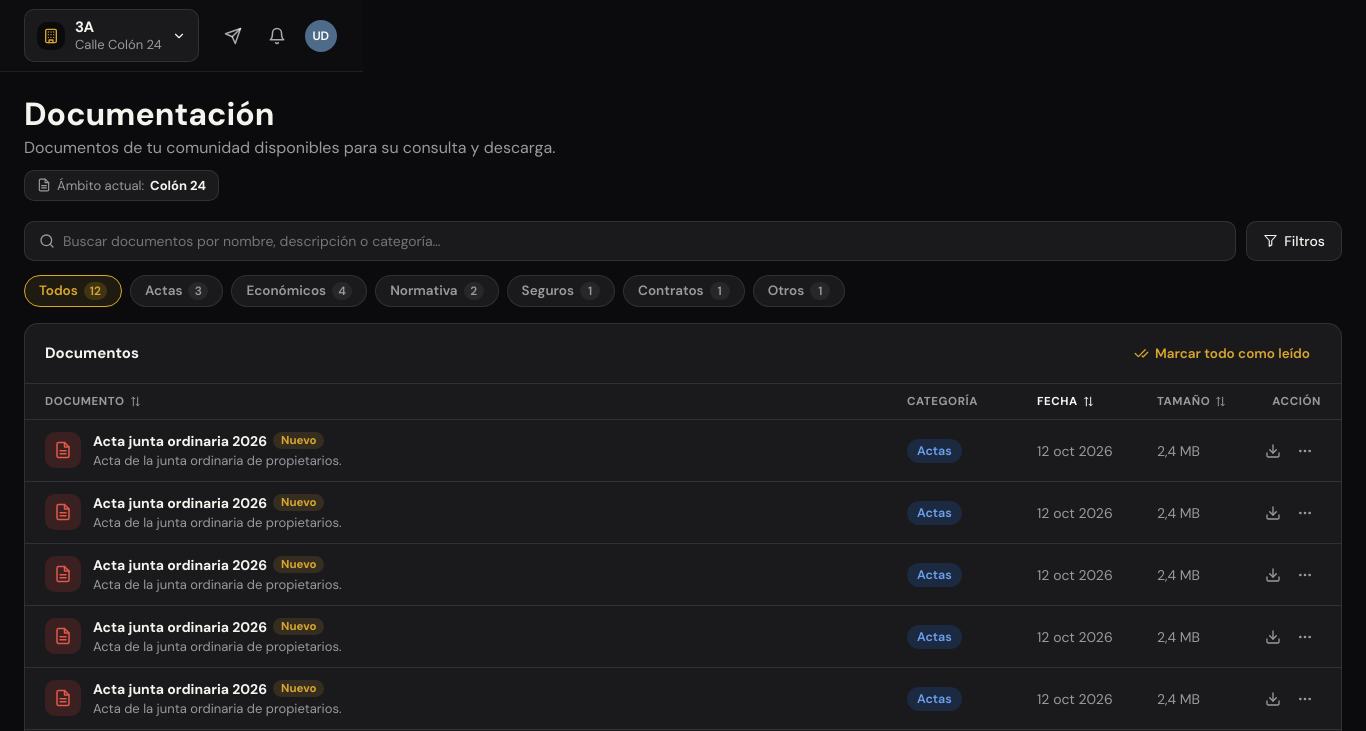
it: DocumentacionCComponent › «Marcar todo como leído» restores the pills it could not mark and says so
Click the button "Marcar todo como leído" at (1222, 353), box [1123, 338, 1321, 369]
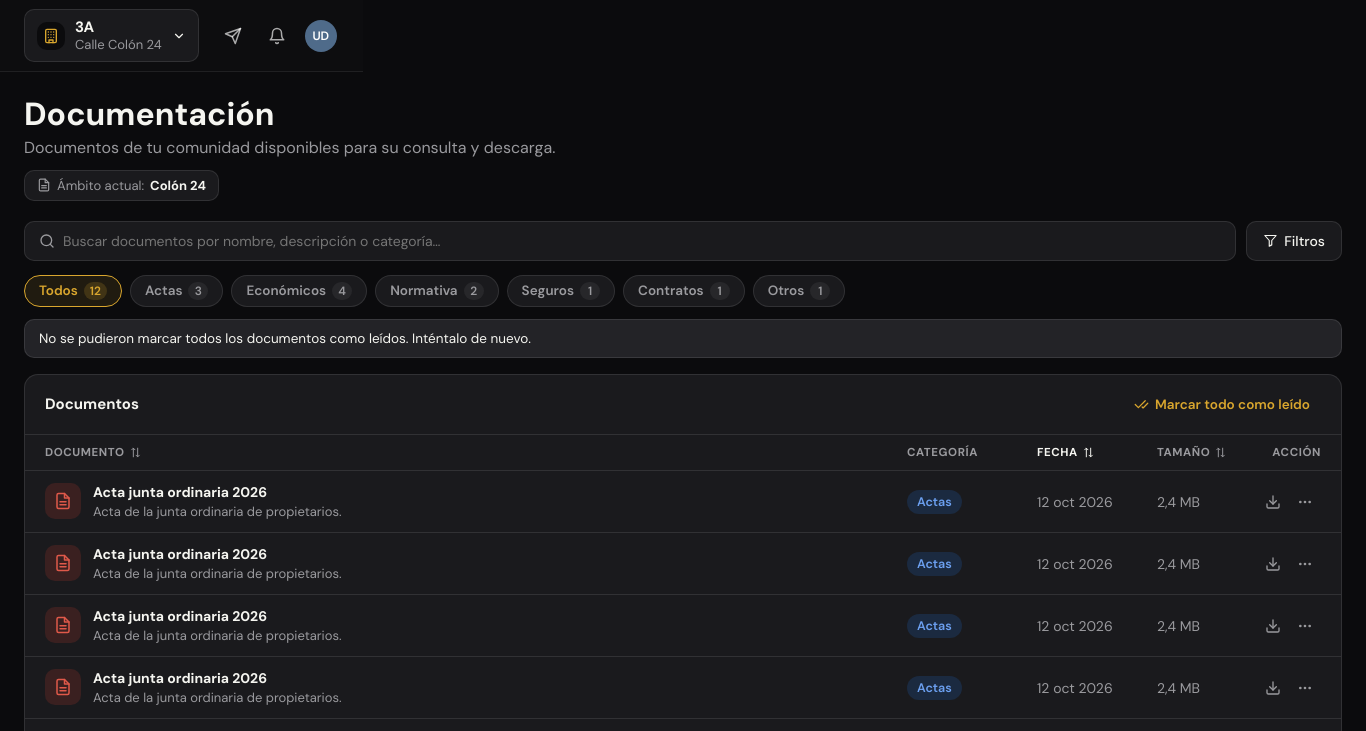
Expected: the message "No se pudieron marcar todos los documentos como leídos. Inténtalo de nuevo." is shown, [24, 319, 1342, 358]
